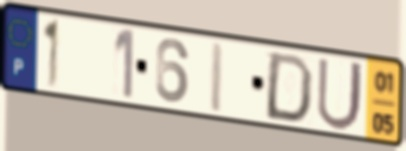1: (110, 26, 136, 103), (40, 16, 66, 93)
6: (154, 36, 193, 106)
D: (262, 50, 316, 126)
I: (207, 39, 227, 116)
U: (314, 55, 366, 134)
